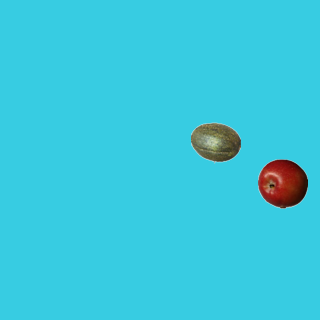Apple Braeburn: (257, 158, 307, 208)
Melon Piel de Sapo: (190, 117, 240, 167)
